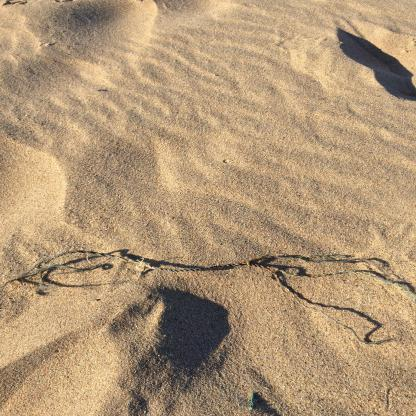Rope - strings: (15, 250, 416, 344)
